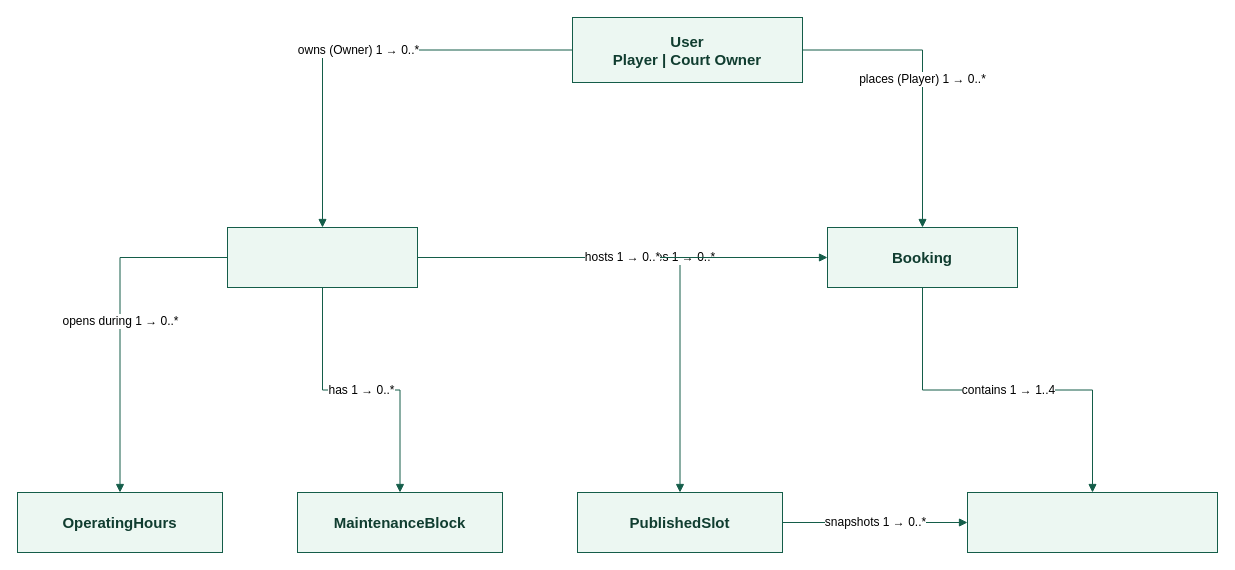
Some shapes in this 1235 by 570 pixel diagram are drawn without their labels. The centre of each missing label's shape, as x and y in pixels:
BookedSlotSnapshot: the point at 1092,522
Court: the point at 322,257
